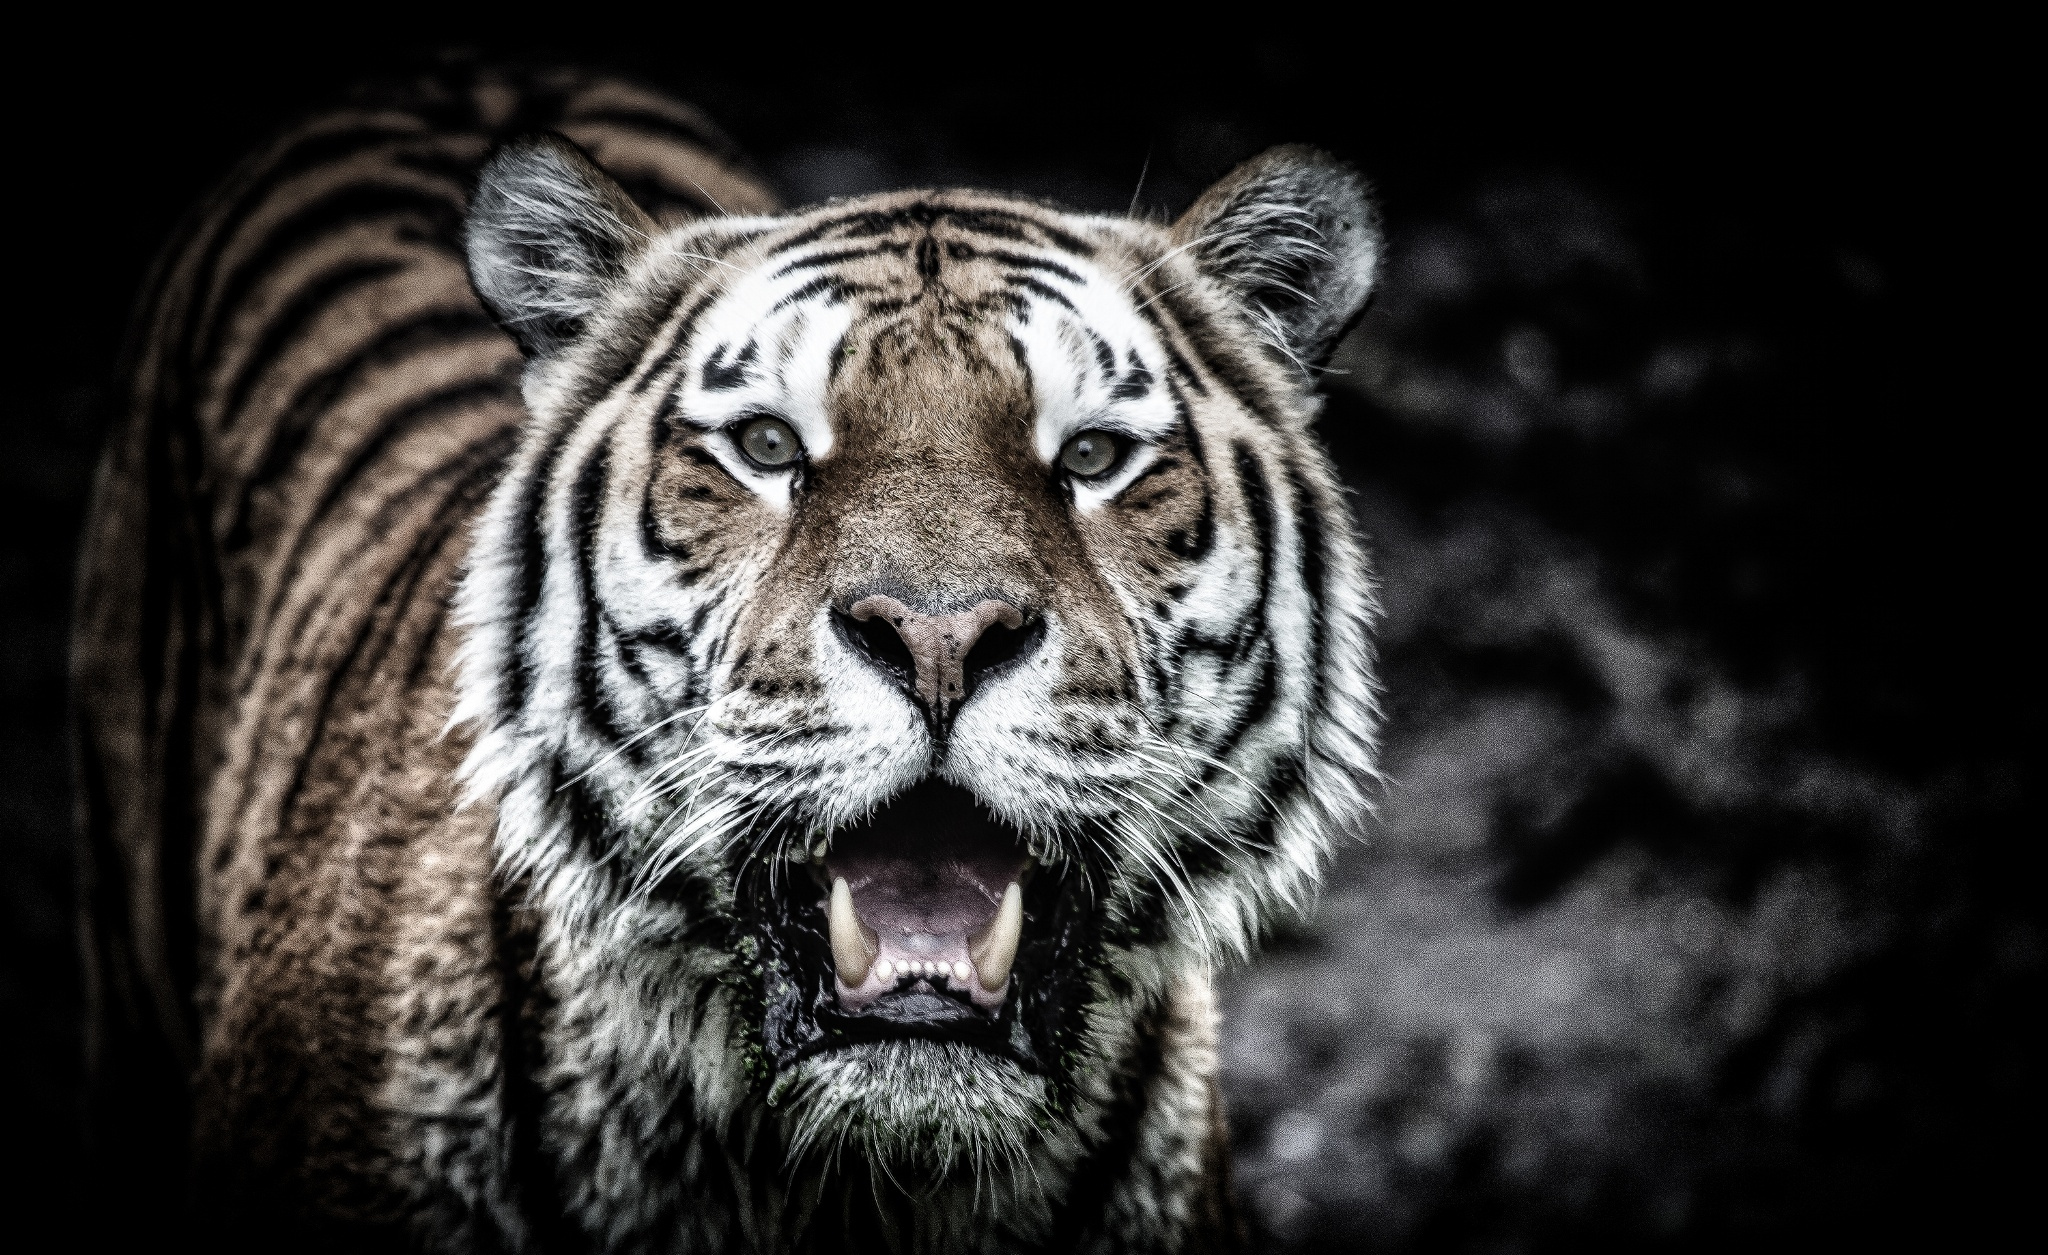tiger: (252, 91, 1593, 1120)
